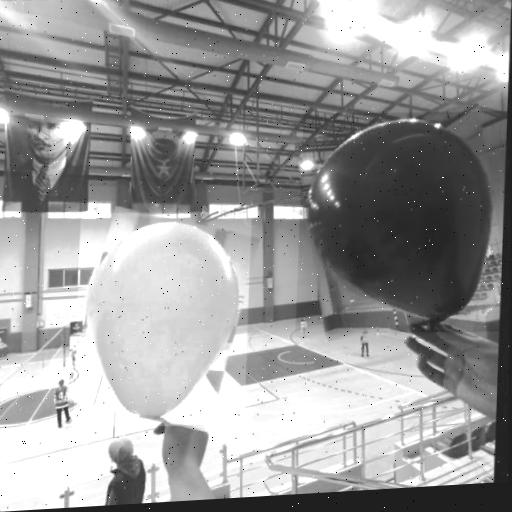balloon: (301, 101, 501, 331), (82, 216, 245, 420)
